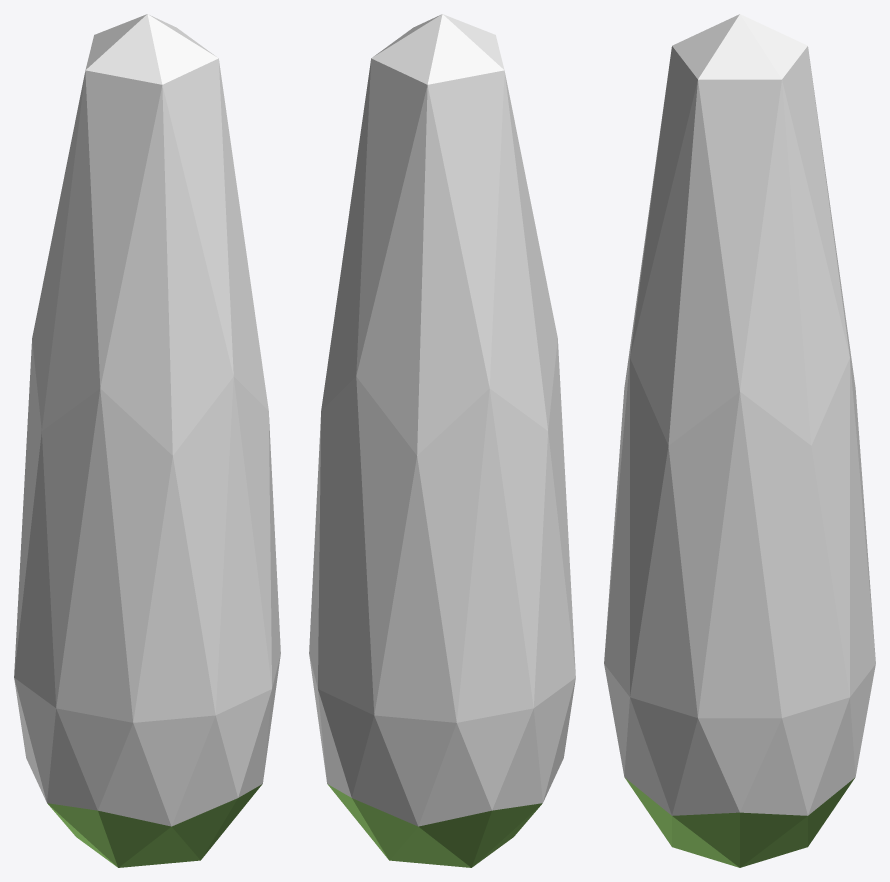
Rendered from Thuja_BushTree_m_Snow_05_LOD.fbx.
3 views of the same model, side by side, from view 1: azimuth 30°, elevation 25°; view 2: azimuth 150°, elevation 25°; view 3: azimuth 270°, elevation 25° (orthographic).
Parts seen in each view (by area): view 1: Thuja_BushTree_m_Snow_05_LOD0; view 2: Thuja_BushTree_m_Snow_05_LOD0; view 3: Thuja_BushTree_m_Snow_05_LOD0.
Part boxes in pixels (x1,y1,x2,y2): Thuja_BushTree_m_Snow_05_LOD0: (14, 14, 280, 867); Thuja_BushTree_m_Snow_05_LOD0: (309, 14, 575, 867); Thuja_BushTree_m_Snow_05_LOD0: (604, 14, 875, 867).
Size of what is drawn, in the model's own units: 114 by 406 by 120.
